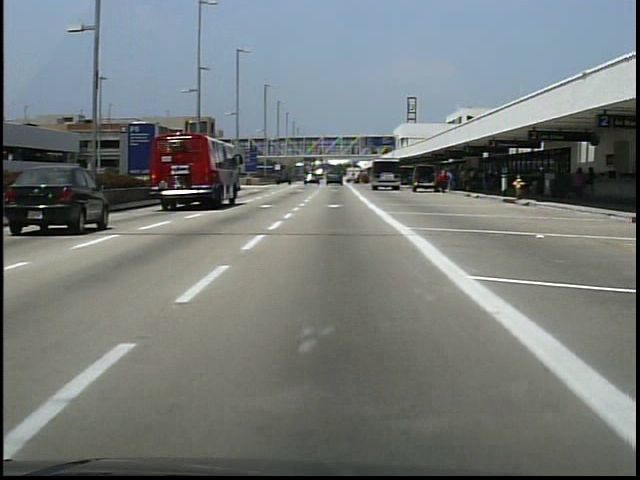person: (437, 171, 449, 198)
